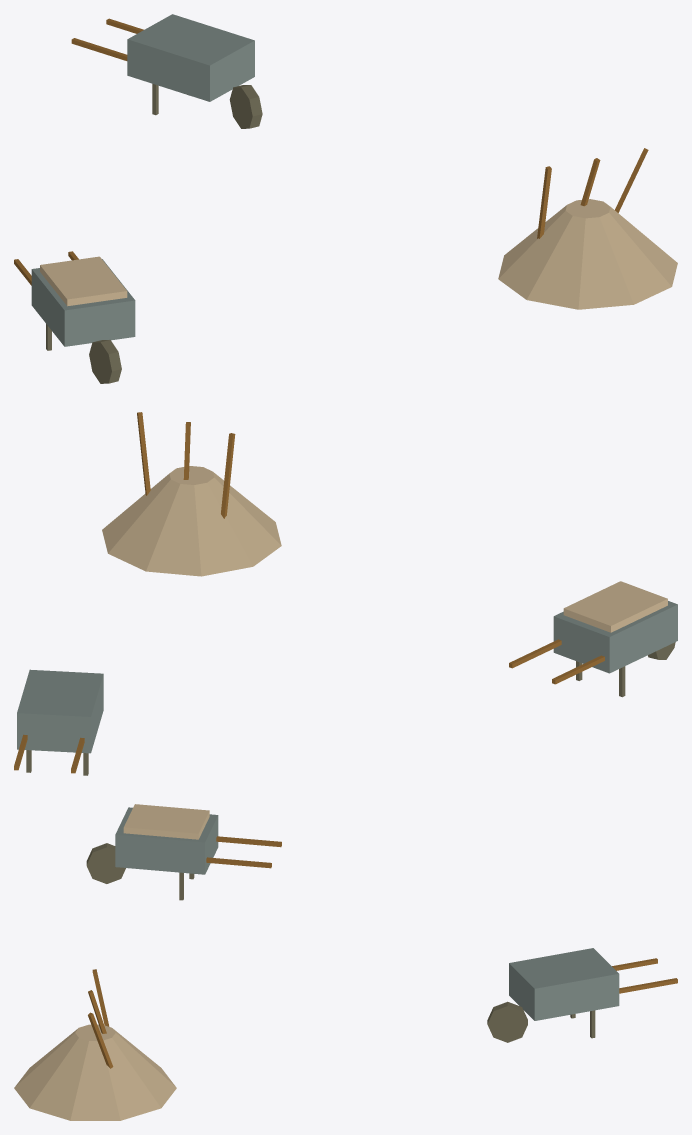
The model's file is SM_ObraHerramientas_v2_8m_LOD0.fbx.
3 renders of one model, top to bottom at view 1: azimuth 30°, elevation 25°; view 2: azimuth 150°, elevation 25°; view 3: azimuth 270°, elevation 25°, orthographic. The views are drawn at different scales.
Visible parts, largest first — view 1: SM_obra_curso_v14_LOD0; view 2: SM_obra_curso_v14_LOD0; view 3: SM_obra_curso_v14_LOD0.
Part boxes in pixels (box(x1,y1,x2,y2)): SM_obra_curso_v14_LOD0: box(14, 14, 677, 383); SM_obra_curso_v14_LOD0: box(14, 412, 677, 775); SM_obra_curso_v14_LOD0: box(14, 804, 677, 1120).
Size of the model in its own units: 5.84 by 1.11 by 6.52.
